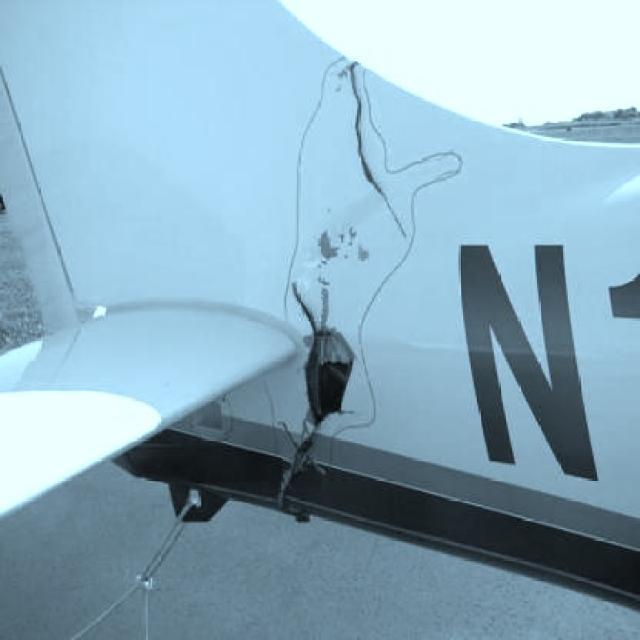crack: (336, 83, 402, 231)
